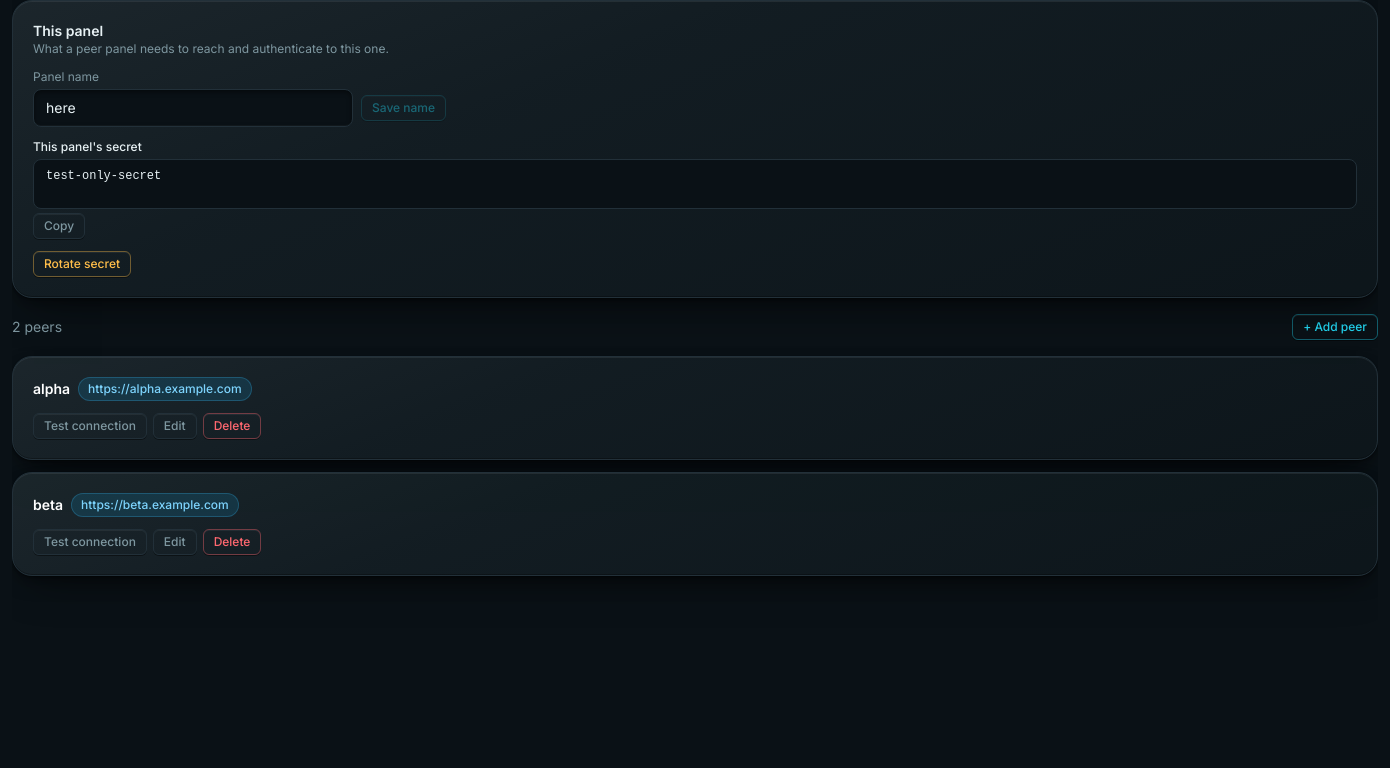
Test: removing a peer › shows why it failed instead of doing nothing
The width and height of the screenshot is (1390, 768).
Click the button "Delete" below "https://alpha.example.com": (232, 426) [203,413,261,439]
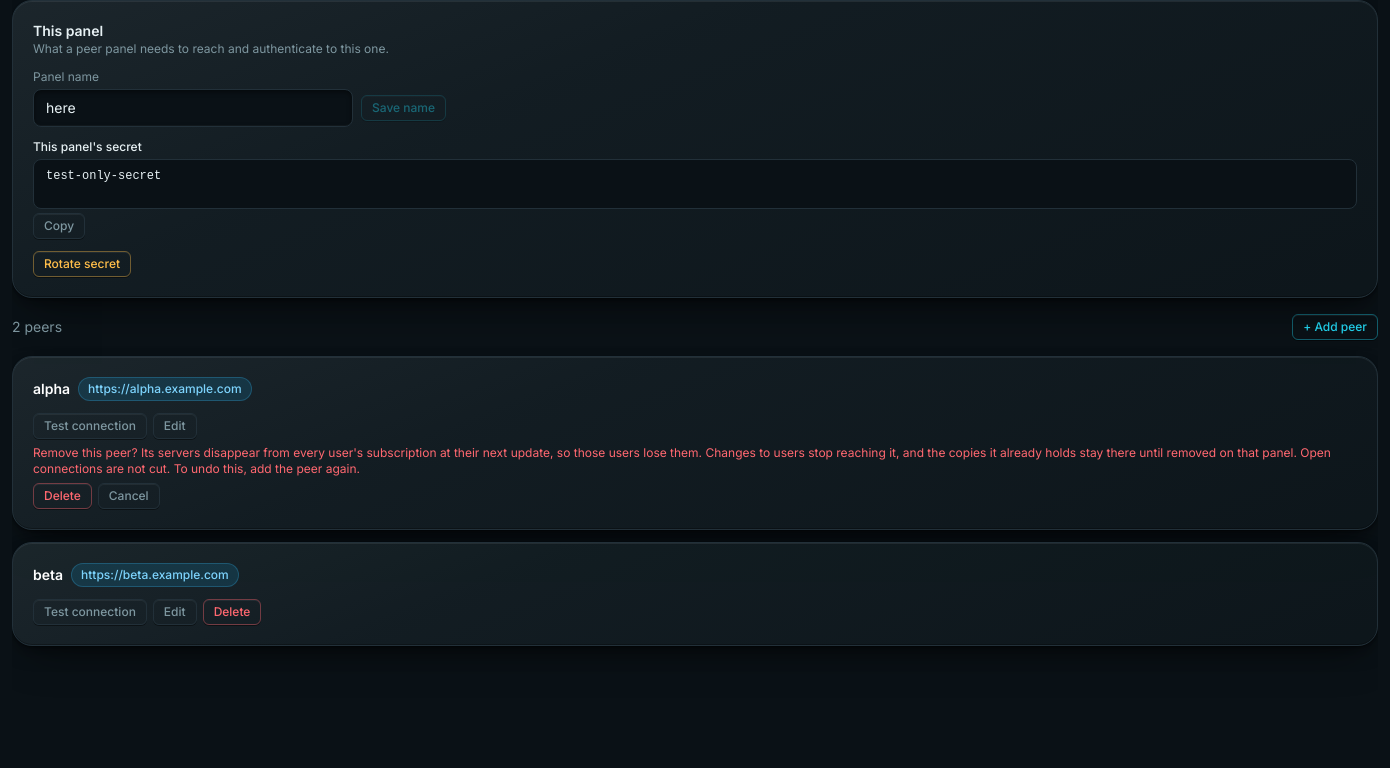
Click the button "Delete" below "https://alpha.example.com": (62, 496) [33,483,92,509]
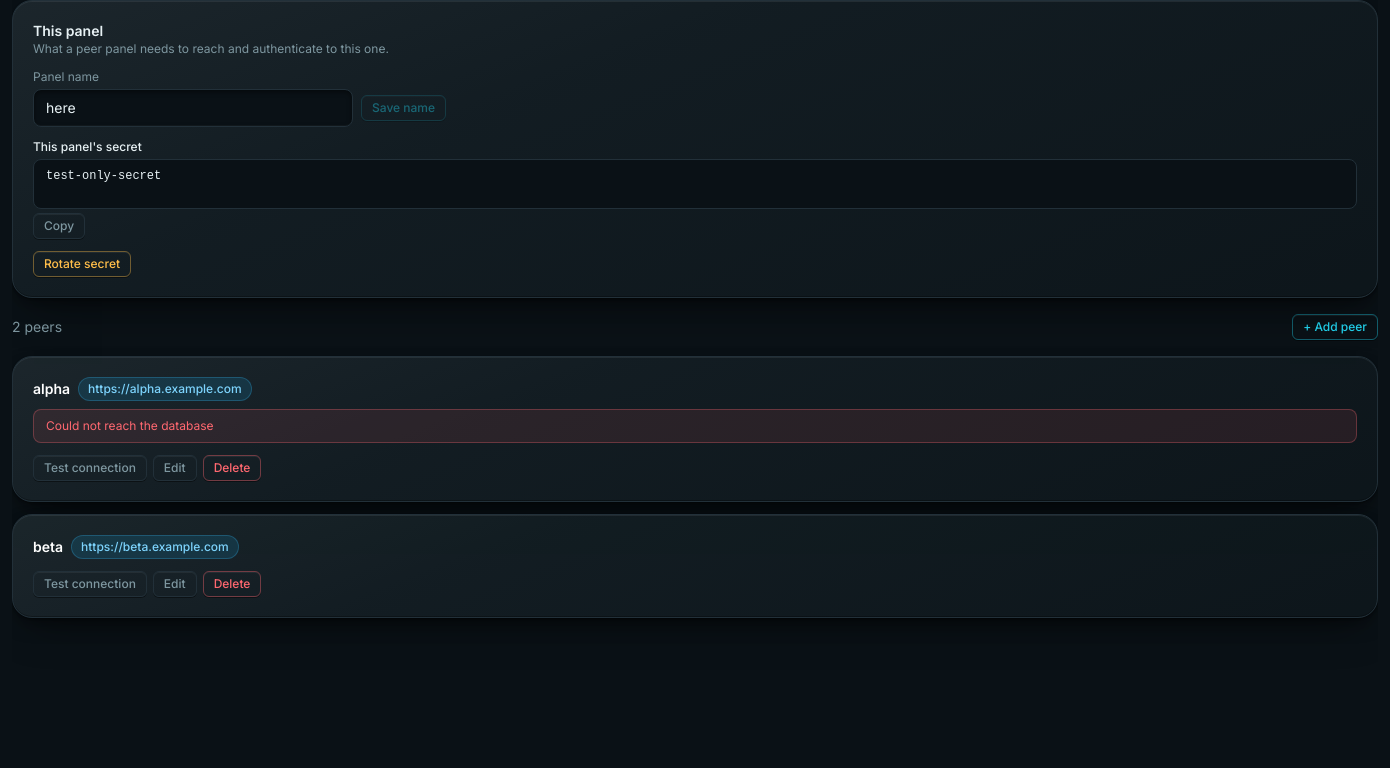
Now the text "Could not reach the database" is shown, box [33,409,1357,443]
Now the text "Remove this peer?" is gone
